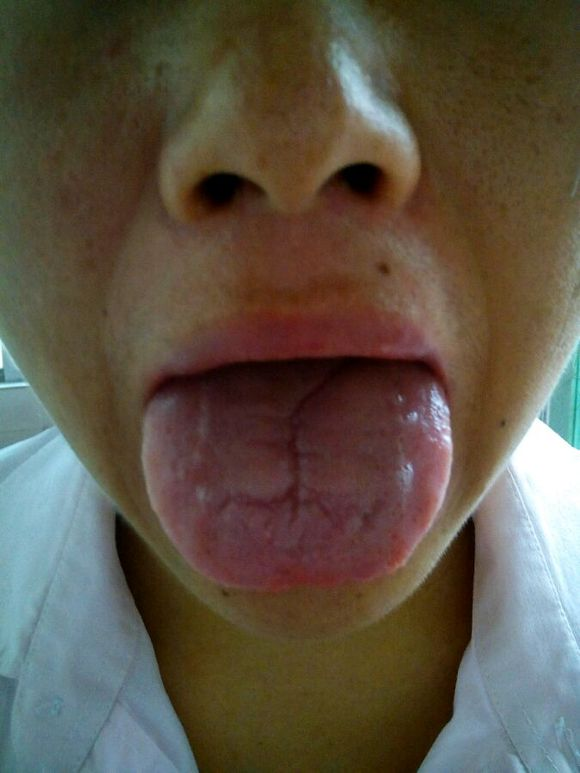hongshe: (141, 361, 452, 593)
liewenshe: (252, 369, 339, 525)
